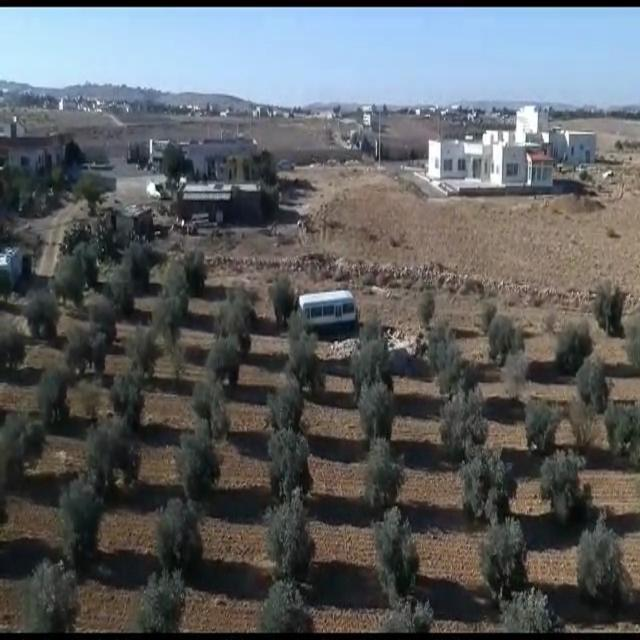trees: (570, 512, 634, 606), (23, 558, 84, 639), (459, 448, 521, 523), (262, 497, 317, 581), (372, 506, 421, 595), (535, 451, 596, 522), (170, 420, 228, 494), (56, 484, 108, 566), (87, 418, 143, 493), (254, 430, 316, 496), (478, 516, 530, 594), (156, 494, 207, 572), (135, 570, 187, 639), (349, 318, 397, 390), (499, 585, 561, 640), (363, 435, 411, 506), (434, 399, 488, 457), (260, 584, 317, 638), (288, 320, 326, 400), (0, 421, 46, 487), (604, 395, 640, 472), (205, 301, 256, 354), (188, 377, 232, 434), (106, 375, 148, 432), (262, 383, 308, 435), (551, 323, 596, 375), (382, 596, 437, 637), (36, 371, 73, 431), (358, 380, 396, 437), (428, 356, 482, 396), (129, 325, 162, 390), (519, 396, 560, 448), (575, 355, 613, 411), (49, 256, 86, 310), (66, 329, 109, 375), (593, 285, 630, 337), (25, 292, 65, 340), (566, 396, 600, 449), (204, 342, 244, 387), (160, 275, 194, 323), (488, 314, 525, 358), (500, 352, 534, 398), (103, 268, 135, 315), (180, 246, 207, 301), (166, 328, 189, 392), (229, 281, 264, 323), (0, 325, 28, 377), (122, 252, 152, 299), (270, 278, 297, 330), (427, 322, 459, 363), (90, 305, 121, 343), (76, 244, 101, 287), (625, 321, 640, 372), (416, 290, 438, 324), (83, 387, 103, 418), (476, 305, 498, 328), (307, 291, 357, 297)
